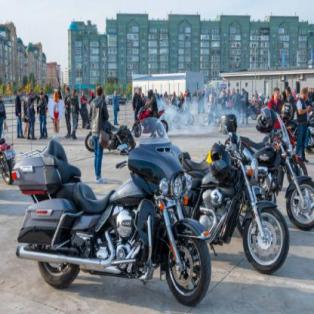Motocicleta: (15, 130, 211, 313), (180, 121, 291, 280), (245, 107, 314, 231)
